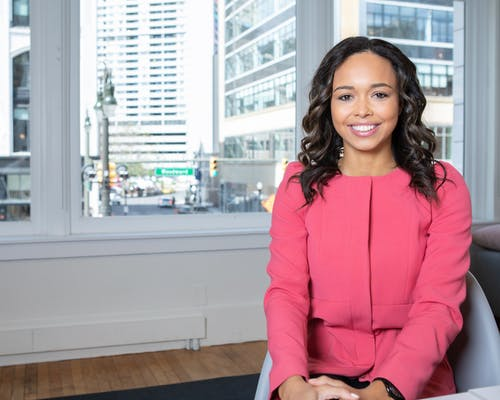person: (311, 35, 419, 156)
